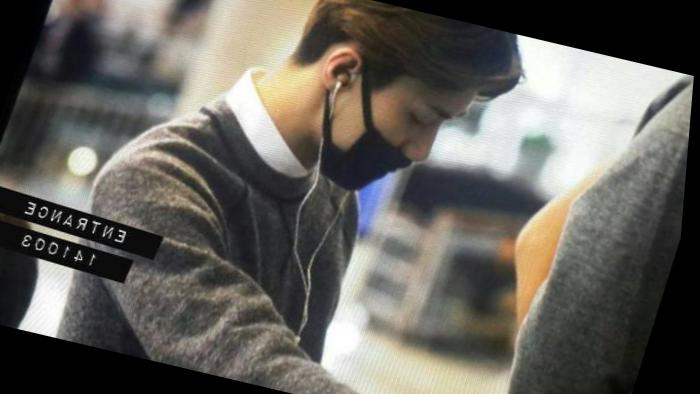WRONG: (313, 66, 473, 211)
